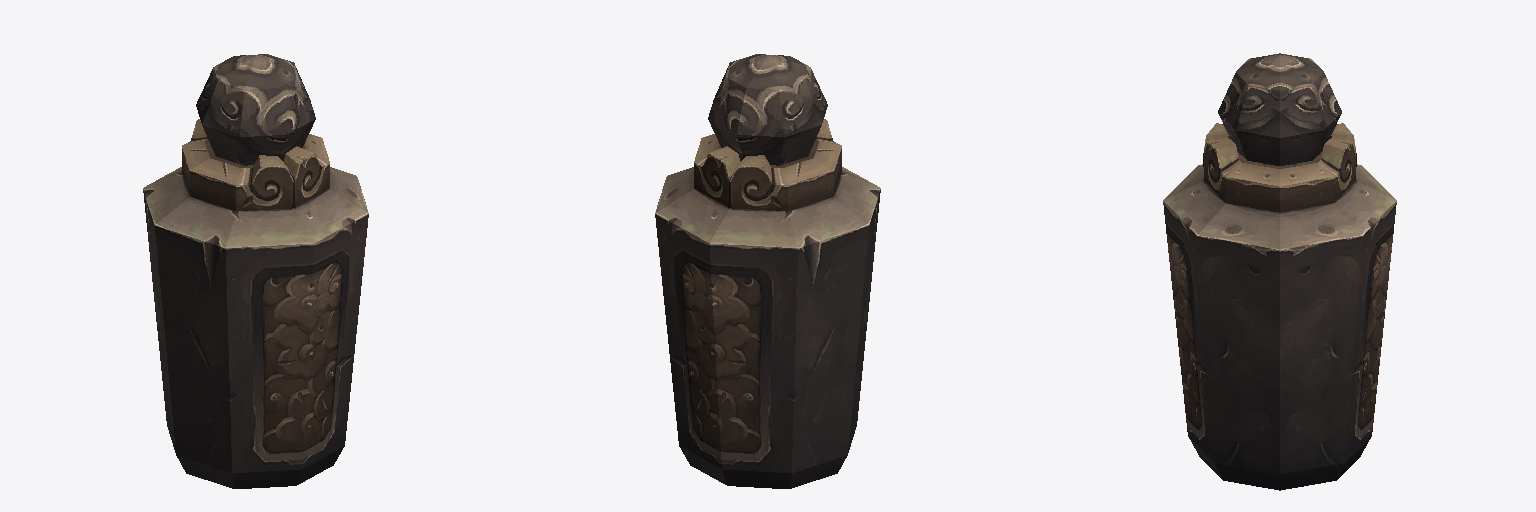
3 views of the same model, side by side, from view 1: azimuth 30°, elevation 25°; view 2: azimuth 150°, elevation 25°; view 3: azimuth 270°, elevation 25° (orthographic).
Visible parts, largest first — view 1: Geoset_000; view 2: Geoset_000; view 3: Geoset_000.
Part boxes in pixels (left/top/right/bottom): Geoset_000: left=143, top=54, right=368, bottom=488; Geoset_000: left=655, top=54, right=880, bottom=488; Geoset_000: left=1163, top=53, right=1396, bottom=490.
Size of the model in its own units: 1.19 by 2.25 by 1.19.
1 materials, 1 textured.